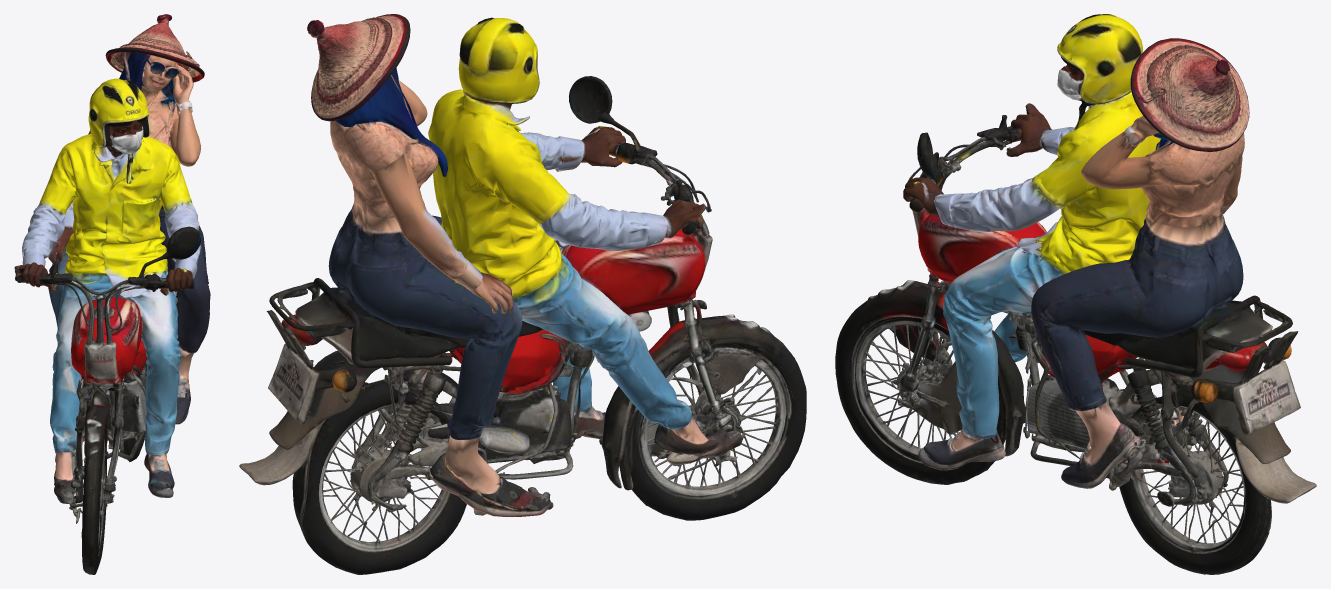
File: zem.glb
3 renders of one model, left to right at view 1: azimuth 30°, elevation 25°; view 2: azimuth 150°, elevation 25°; view 3: azimuth 270°, elevation 25°, orthographic. The views are drawn at different scales.
Size of the model in its own units: 1.24 by 1.9 by 1.55.
1 material, 1 textured.
